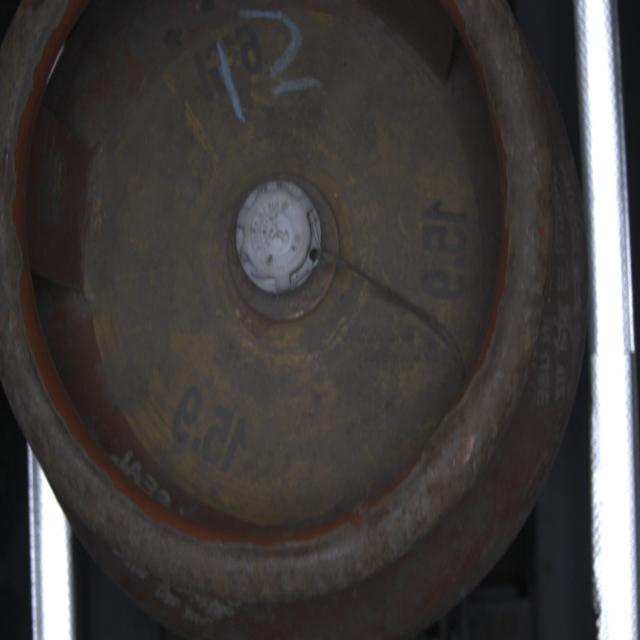Cap: (234, 175, 322, 301)
